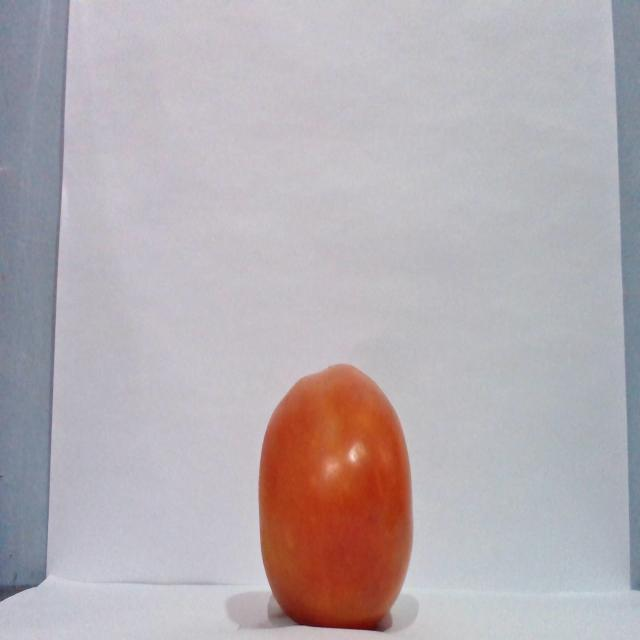Red: (256, 361, 414, 629)
